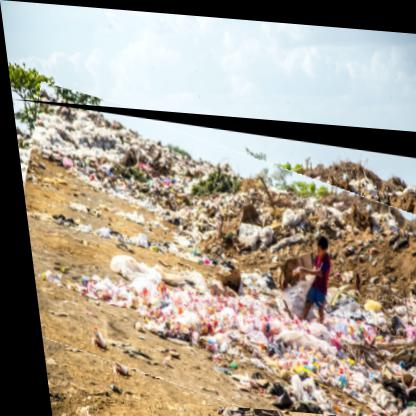Garbage: (10, 100, 416, 416)
